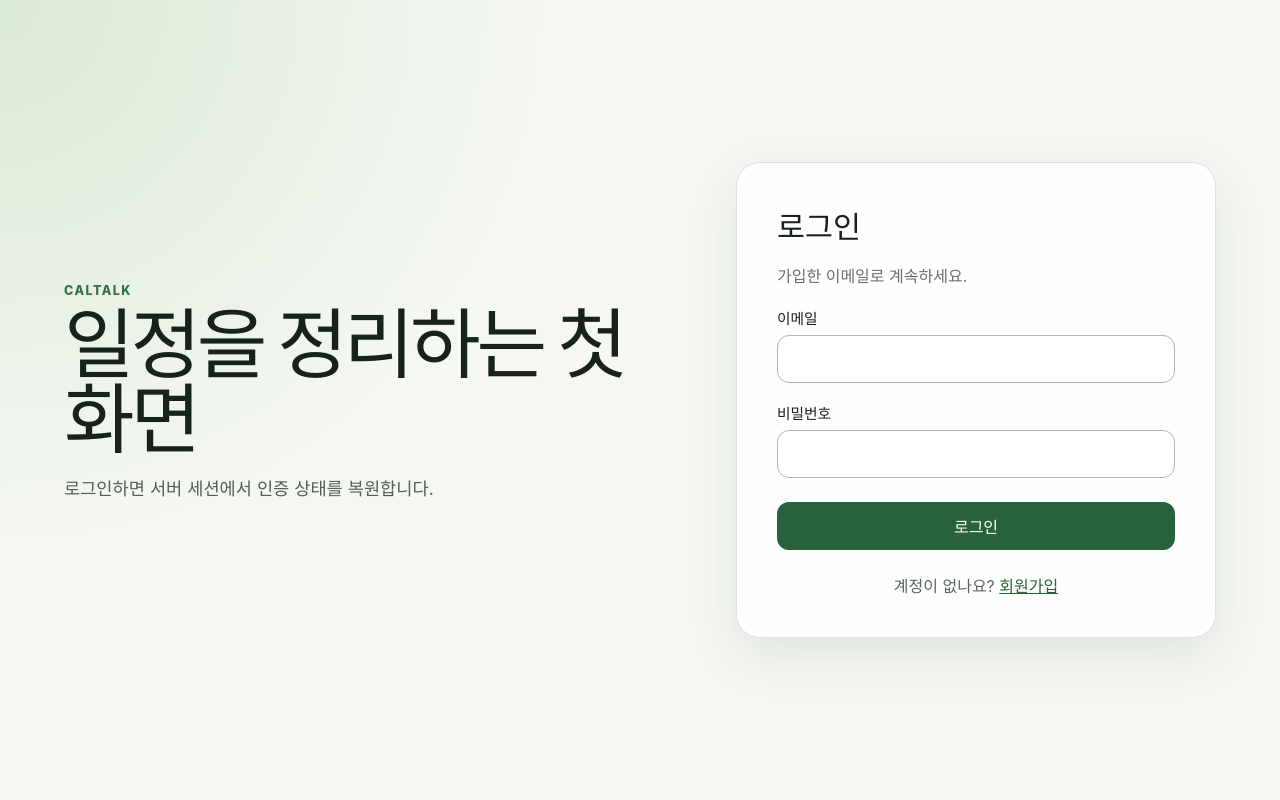
Test: authentication UI › shows a generalized invalid credentials message
In the field labelled "이메일": (976, 359) [777,335,1175,383], type "member@example.com"
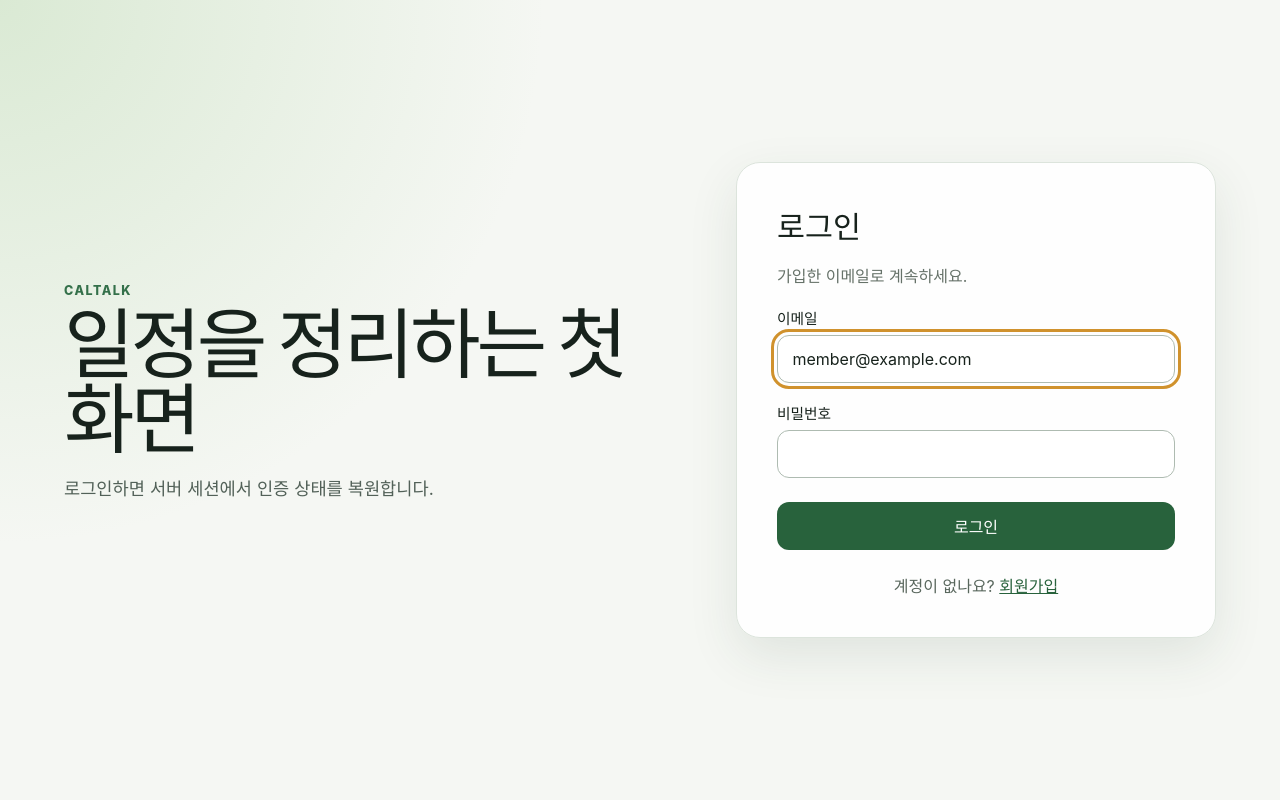
In the password field labelled "비밀번호": (976, 454) [777,430,1175,478], type "example-password"
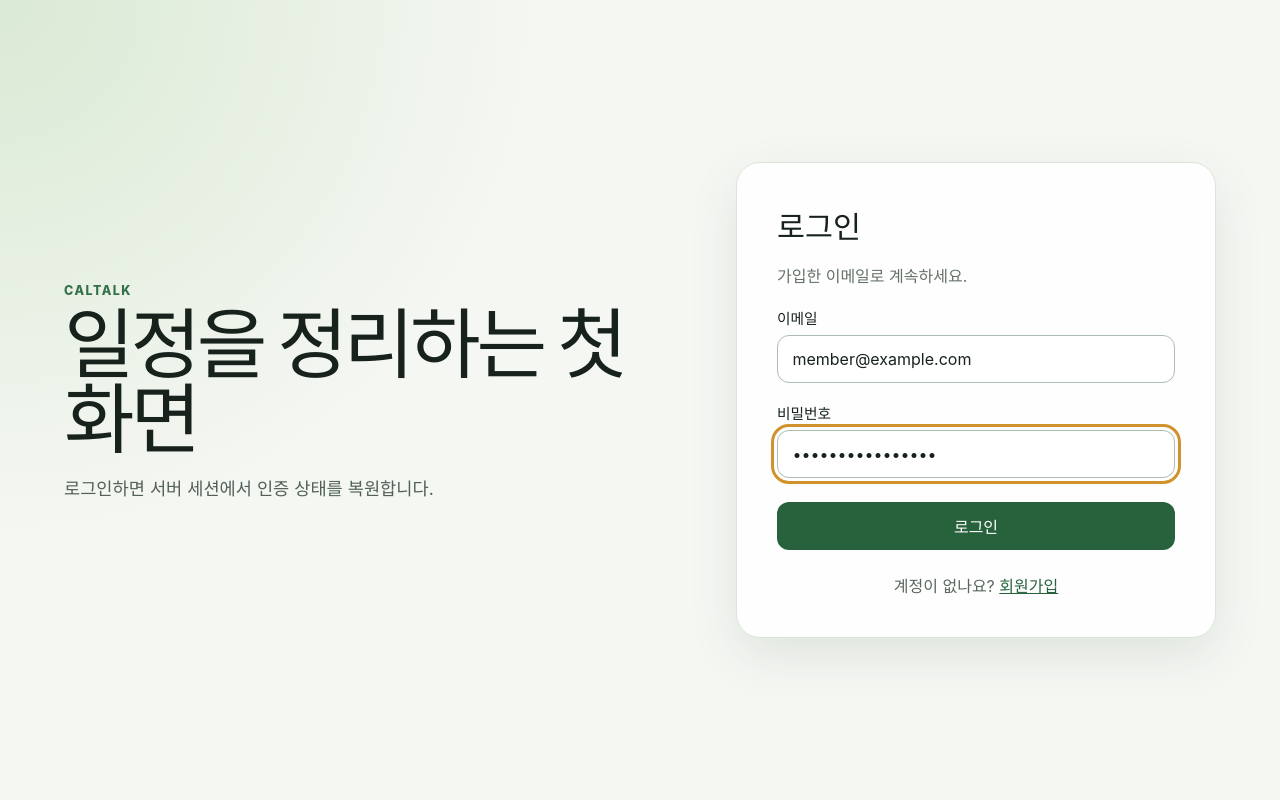
Click the button "로그인": (976, 526) [777,502,1175,550]
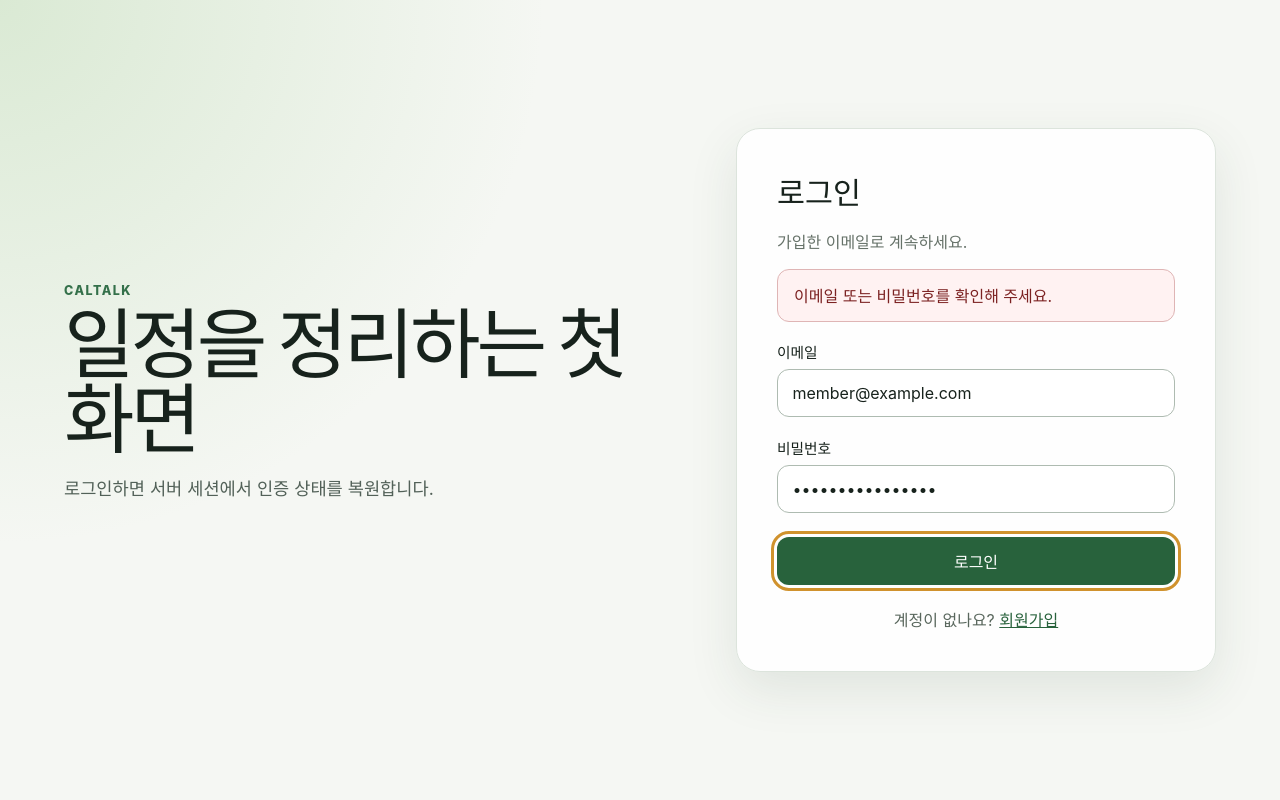
Check: the message reads "이메일 또는 비밀번호를 확인해 주세요.", box [794,286,1052,306]
